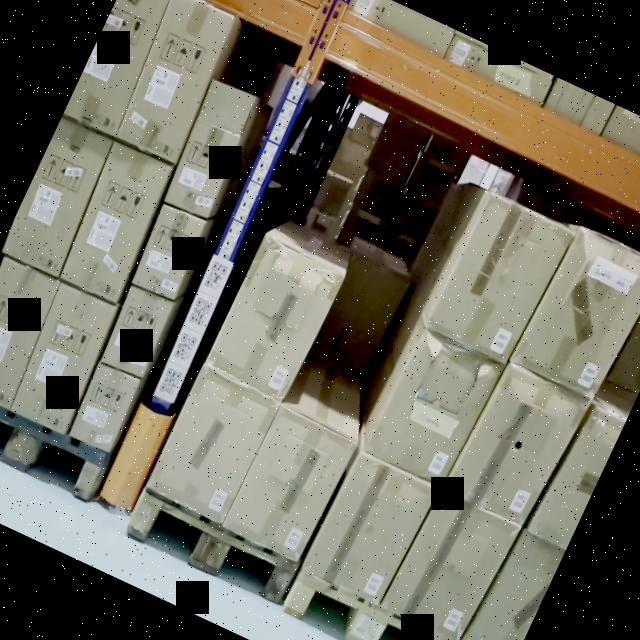box: (428, 194, 568, 366), (443, 366, 591, 526), (206, 238, 344, 400), (511, 227, 640, 399), (146, 364, 279, 523), (224, 406, 357, 563), (369, 332, 496, 484), (116, 0, 234, 163), (306, 454, 433, 604), (388, 492, 512, 638), (2, 117, 113, 279), (60, 143, 172, 301), (10, 284, 116, 435), (63, 0, 169, 136), (0, 259, 60, 407), (164, 121, 240, 218), (133, 204, 205, 299), (102, 288, 175, 377), (69, 364, 138, 454)
